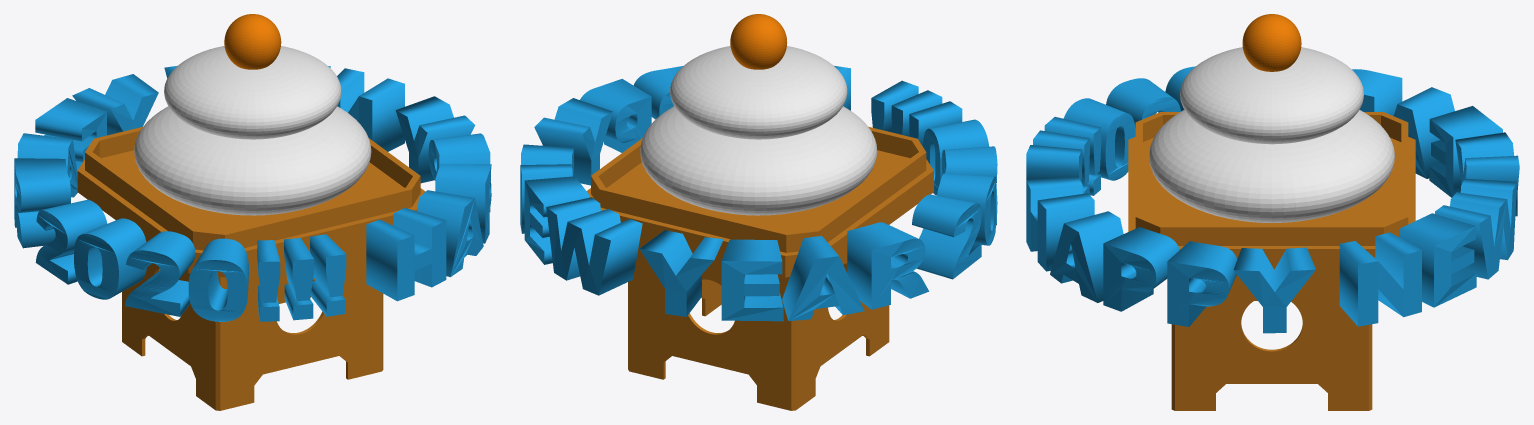
The model's file is newyear.glb.
3 renders of one model, left to right at view 1: azimuth 30°, elevation 25°; view 2: azimuth 150°, elevation 25°; view 3: azimuth 270°, elevation 25°, orthographic. The views are drawn at different scales.
Parts seen in each view (by area): view 1: msg, masu, moti_sita, moti_ue, mikan; view 2: msg, masu, moti_sita, moti_ue, mikan; view 3: msg, masu, moti_sita, moti_ue, mikan.
Boxes of the visible parts, <box> form: msg: <box>14,65,491,321</box>; masu: <box>77,127,425,410</box>; moti_sita: <box>134,106,371,215</box>; moti_ue: <box>164,46,341,139</box>; mikan: <box>224,14,281,69</box>; msg: <box>520,66,997,321</box>; masu: <box>586,126,933,410</box>; moti_sita: <box>640,106,877,215</box>; moti_ue: <box>670,46,847,139</box>; mikan: <box>730,14,787,69</box>; msg: <box>1026,66,1519,333</box>; masu: <box>1128,112,1415,410</box>; moti_sita: <box>1149,110,1394,222</box>; moti_ue: <box>1180,47,1363,144</box>; mikan: <box>1242,14,1301,71</box>.
Size of the model in its own units: 11.2 by 8.77 by 11.16.
